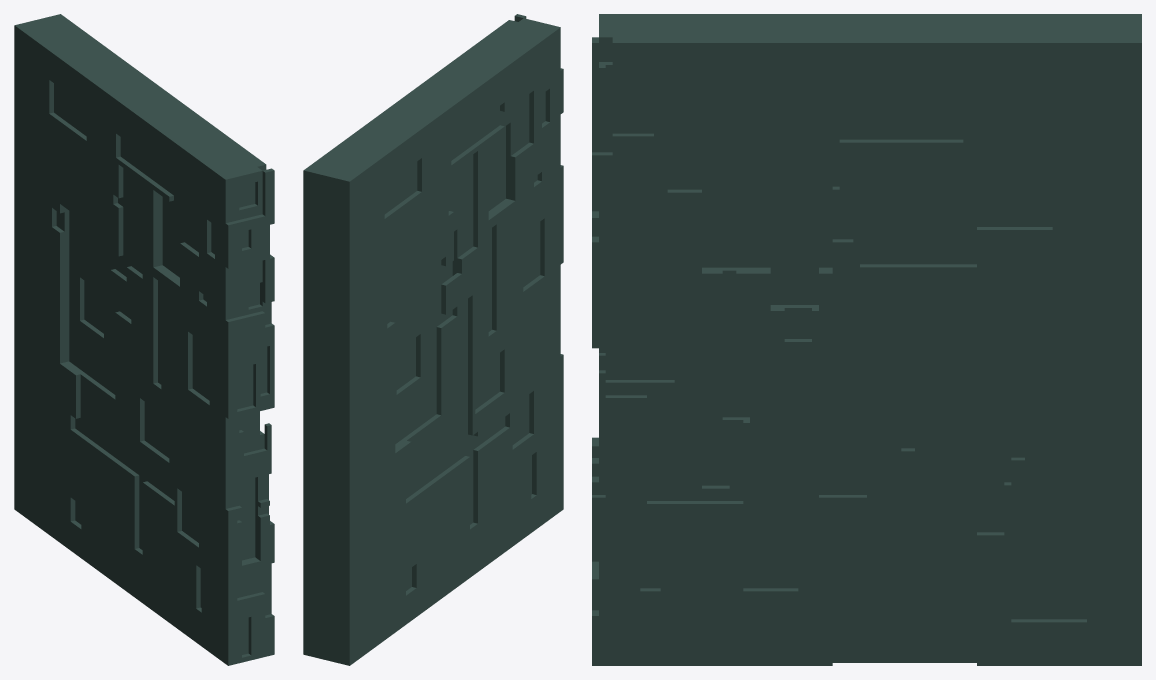
Rendered from wall.obj.
3 views of the same model, side by side, from view 1: azimuth 30°, elevation 25°; view 2: azimuth 150°, elevation 25°; view 3: azimuth 270°, elevation 25° (orthographic). The views are drawn at different scales.
Size of the model in its own units: 1 by 10 by 8.
1 material, 1 textured.
